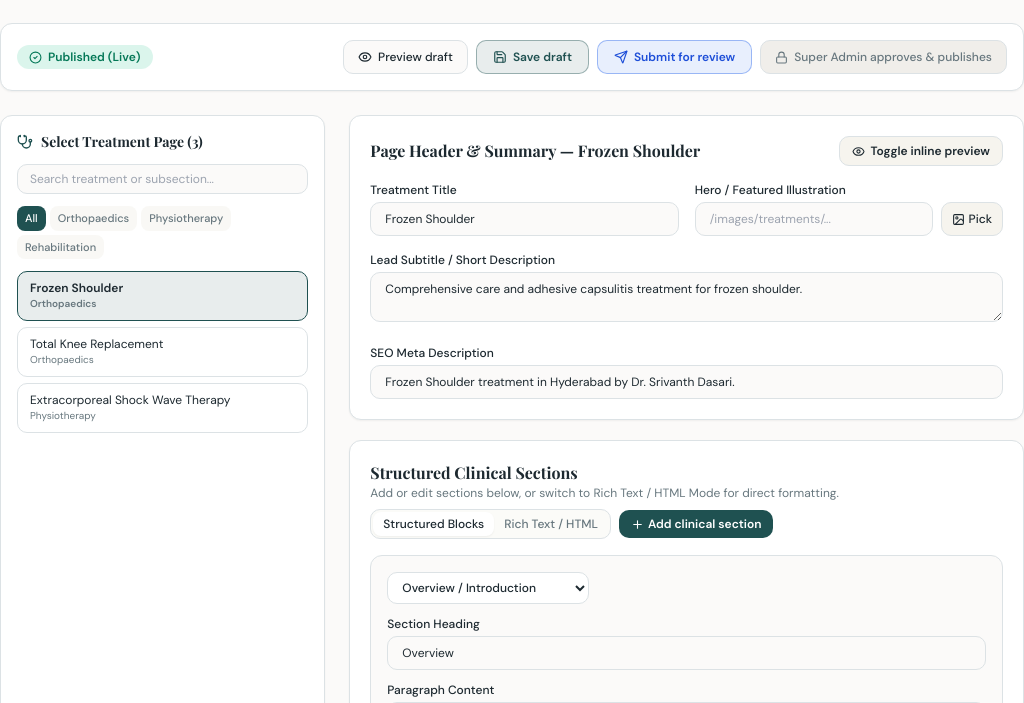
Test: Iteration 3 CMS Workspaces & Rajiv Approval Workflow › PAGE-003: AdminTreatments (Structured treatment page editing without SQL) › allows editing clinical sections, toggling sanitized HTML preview, and submitting for review
This screenshot has width=1024, height=703.
Expected: the field labelled "Treatment Title" holds "Frozen Shoulder", [370, 202, 679, 236]
Add a new clinical section
Click the button "Add clinical section" at coordinates (696, 524), box [619, 510, 774, 538]
(page scrolled)
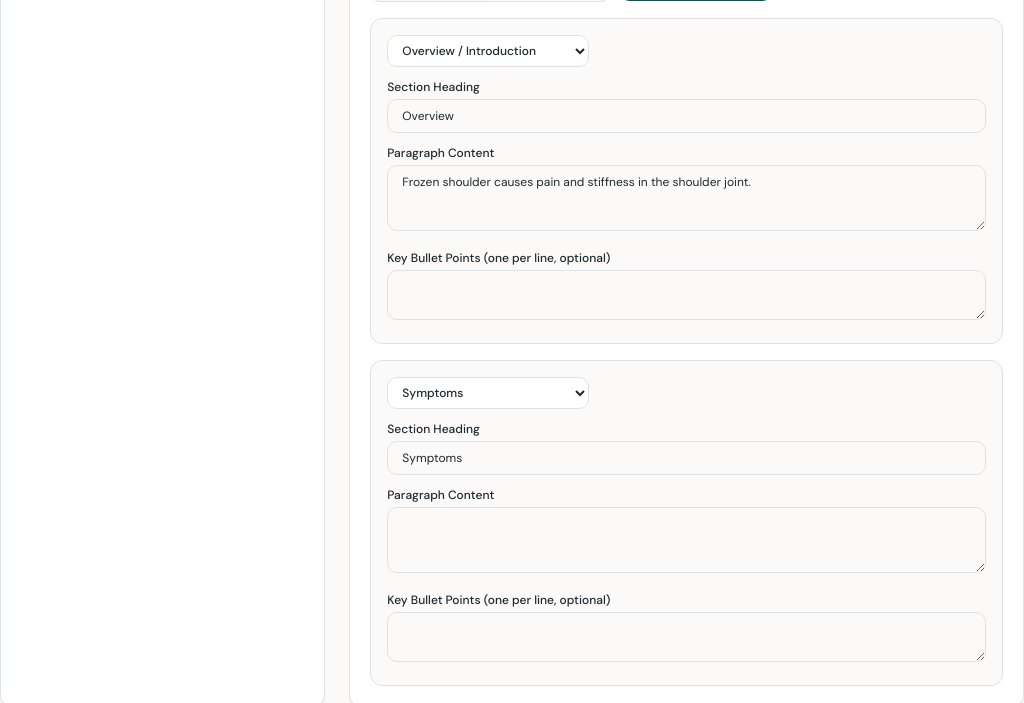
Expected: the number of fields named "Section 1 heading" is 2
Replace the text in the field named "Section 2 heading" with "Key Symptoms of Frozen Shoulder" at coordinates (687, 458), box [387, 441, 986, 475]
(page scrolled)
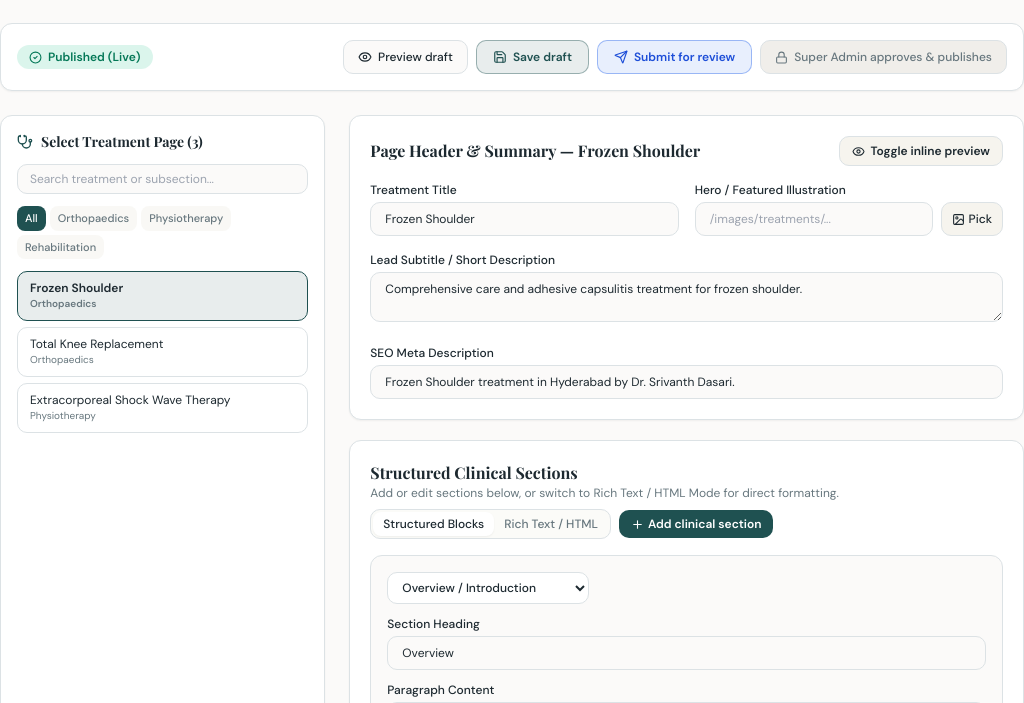
Toggle live sanitized HTML preview
Click the button "Toggle inline preview" at coordinates (921, 151), box [838, 136, 1003, 166]
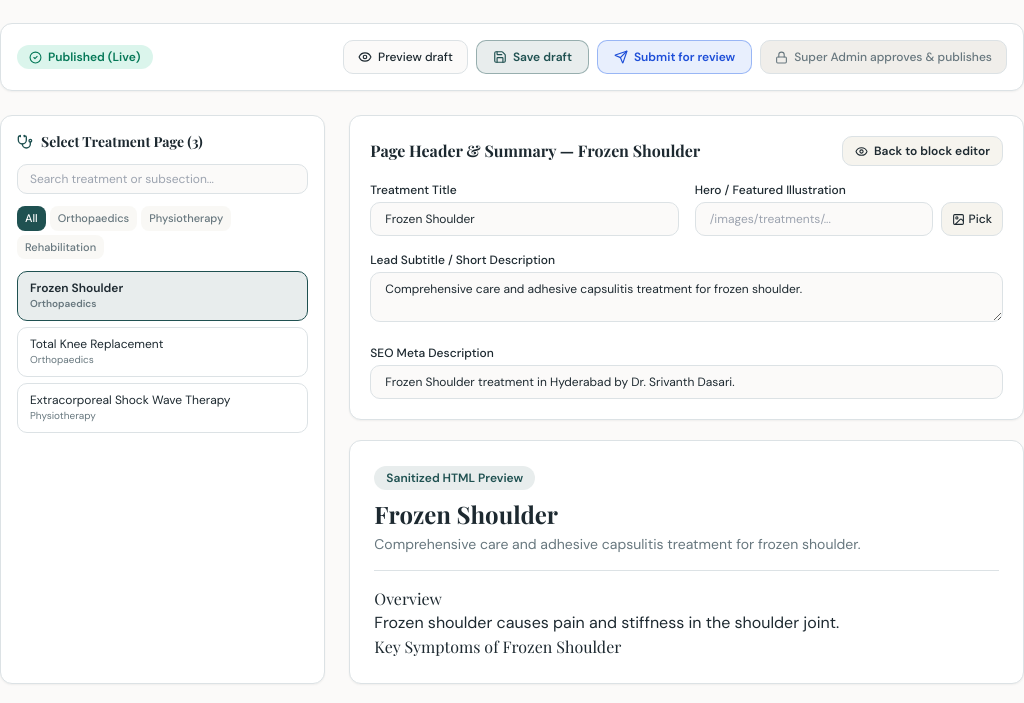
Expected: the text "Sanitized HTML Preview" is shown, [374, 466, 535, 490]
Expected: the heading "Key Symptoms of Frozen Shoulder" is shown, [374, 636, 621, 657]
Submit for review
Click the button "Submit for review" at coordinates (675, 57), box [597, 40, 752, 74]
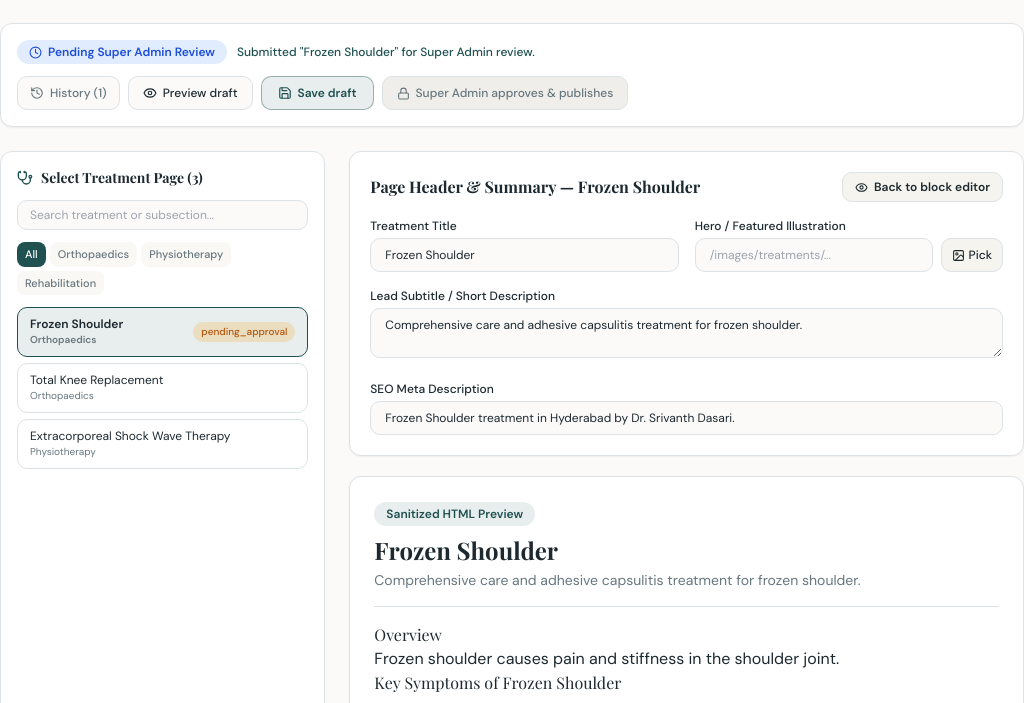
Expected: the element with test id "workflow-status-badge" reads "Pending Super Admin Review", [48, 44, 215, 60]
